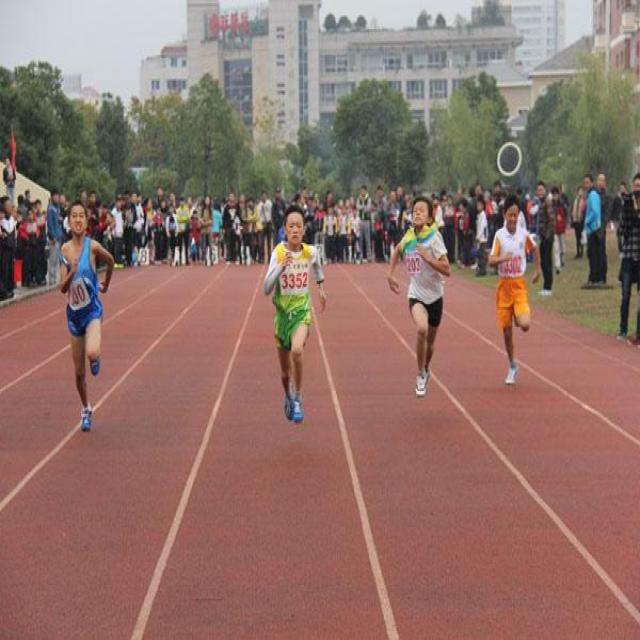non-fight: (262, 206, 332, 423), (388, 196, 453, 397), (58, 200, 111, 434), (486, 195, 534, 384), (610, 174, 639, 345), (570, 174, 610, 289)
